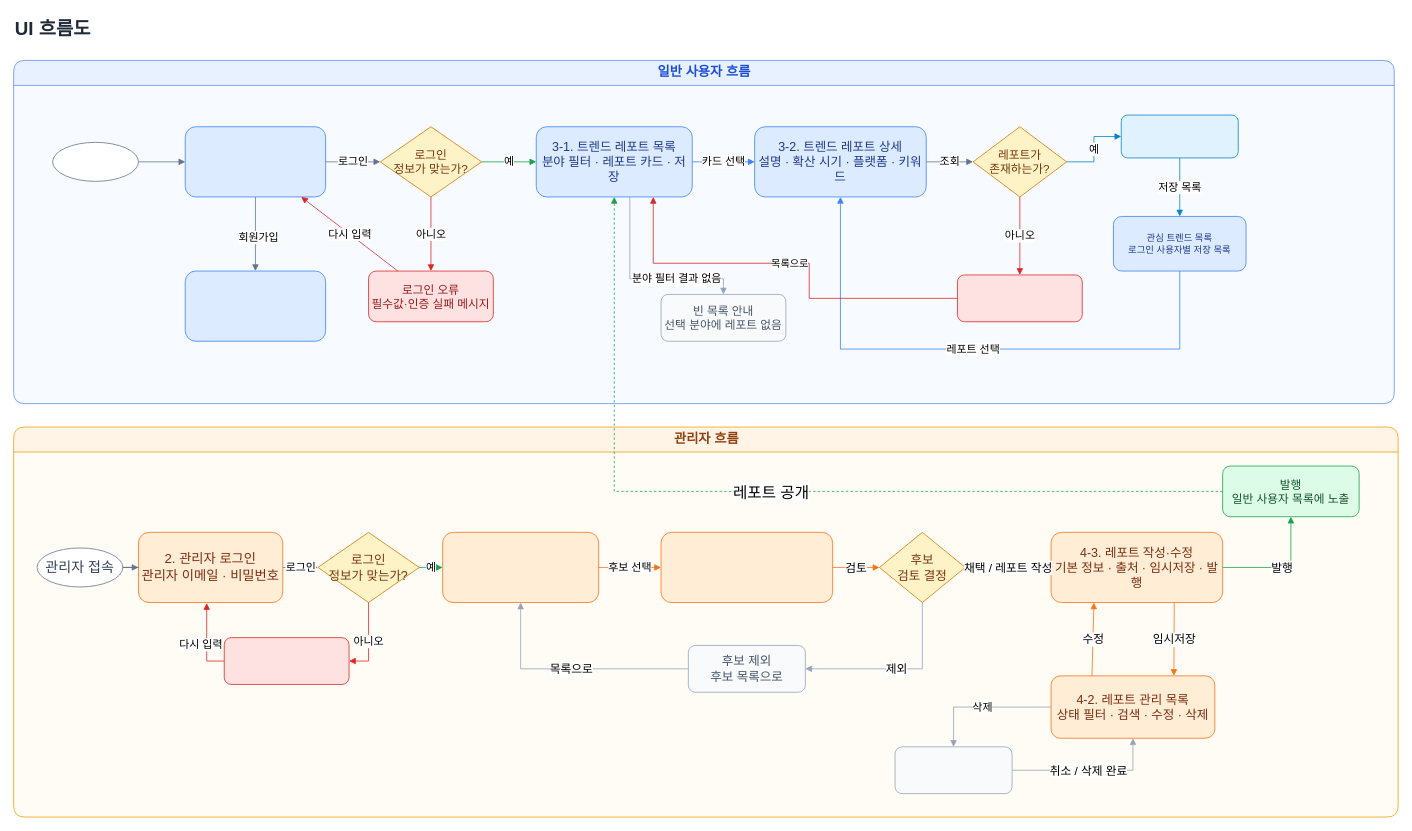
This 1412x831 diagram has some shape labels left out. Each missing label, with the centre of its shape:
"1-1. 회원가입 이름 • 아이디 • 비밀번호" goes at point (255, 305).
"1. 일반 사용자 로그인 이메일 · 비밀번호 · 회원가입" goes at point (255, 161).
"4-1. AI 트렌드 후보 검토 후보 목록 · 상태 필터 · 지표" goes at point (520, 567).
"관리자 로그인 오류 필수값·인증 실패 메시지" goes at point (286, 660).
"관심 저장 / 저장 취소" goes at point (1179, 136).
"레포트를 찾을 수 없음 목록으로 돌아가기" goes at point (1019, 298).
"삭제 확인 팝업 취소 / 삭제 확인" goes at point (953, 770).
"서비스 접속" goes at point (95, 161).
"후보 상세 / 출처 확인 AI 요약 · 출처 링크 · 판단 근거" goes at point (746, 567).
